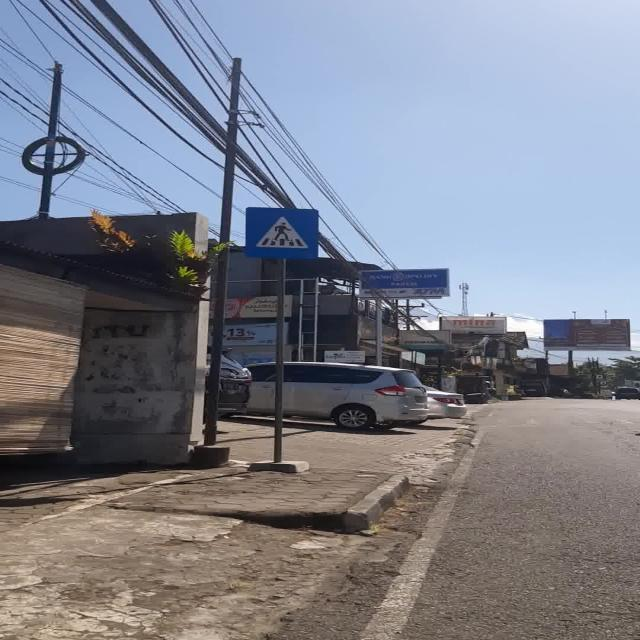Perintah Jalur Penyebrangan: (244, 207, 318, 260)
